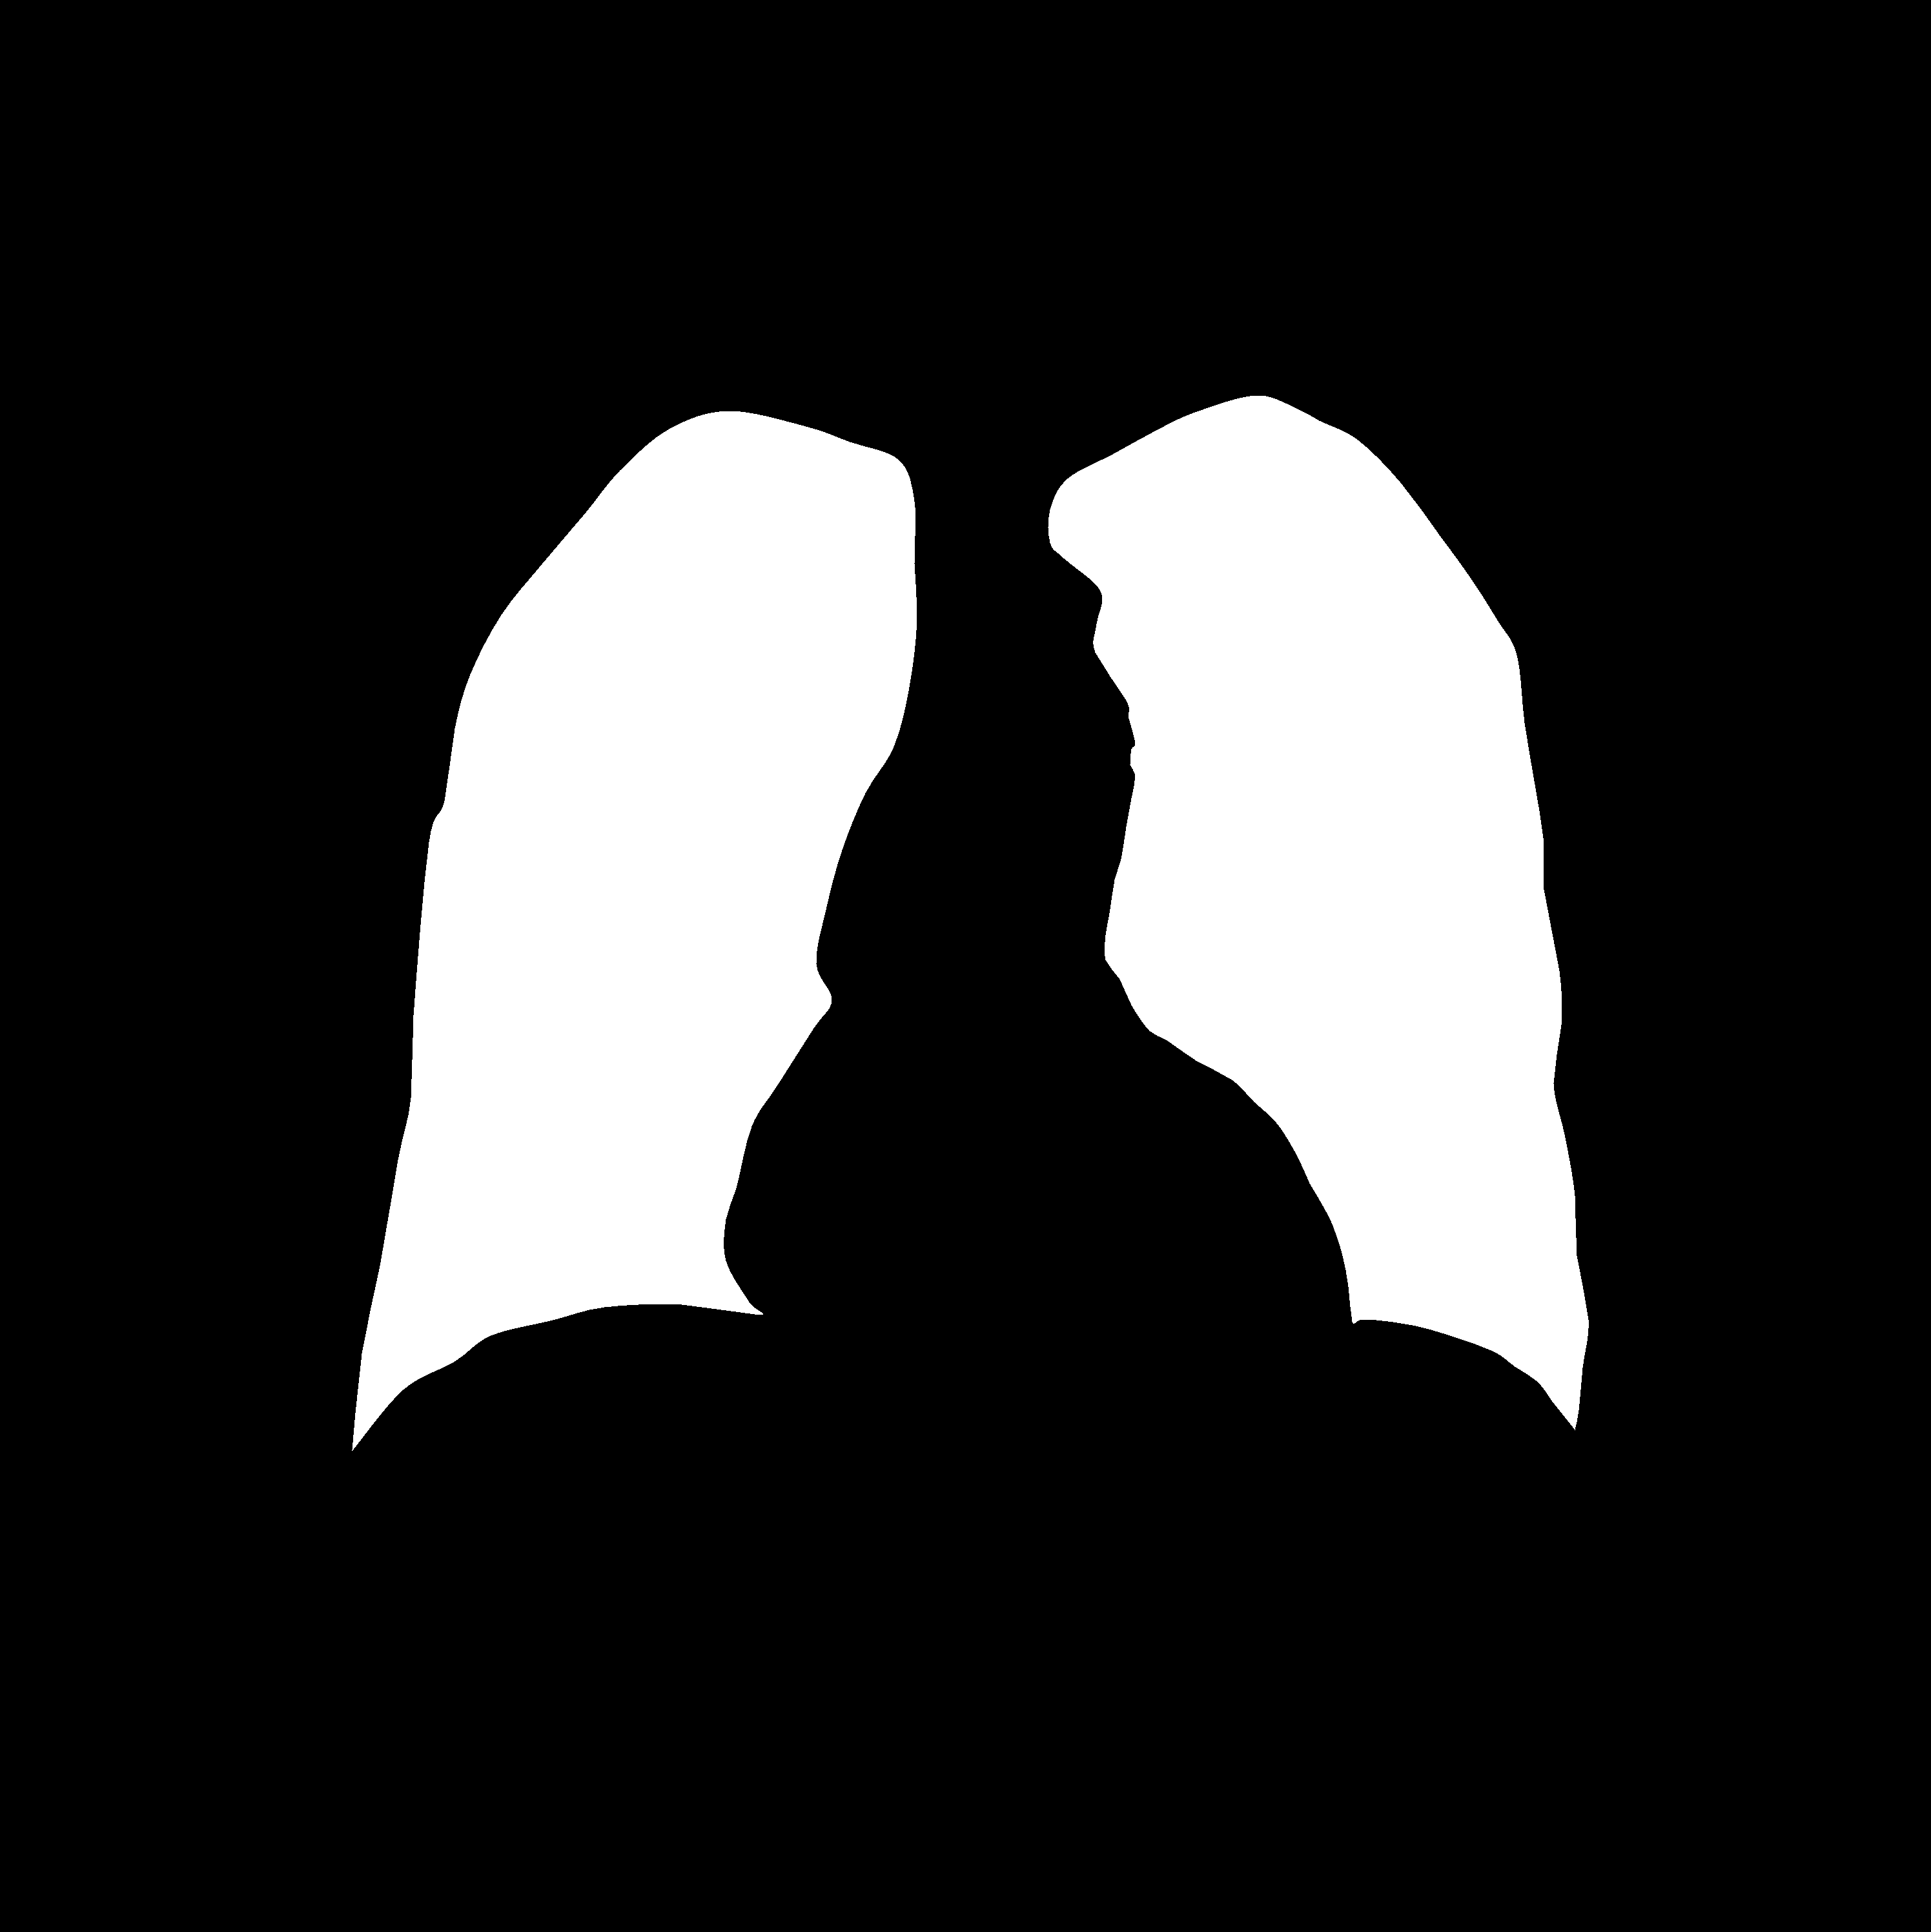heart: (725, 1060, 1353, 1488)
left_lung: (352, 410, 916, 1451)
right_lung: (1049, 396, 1588, 1430)
